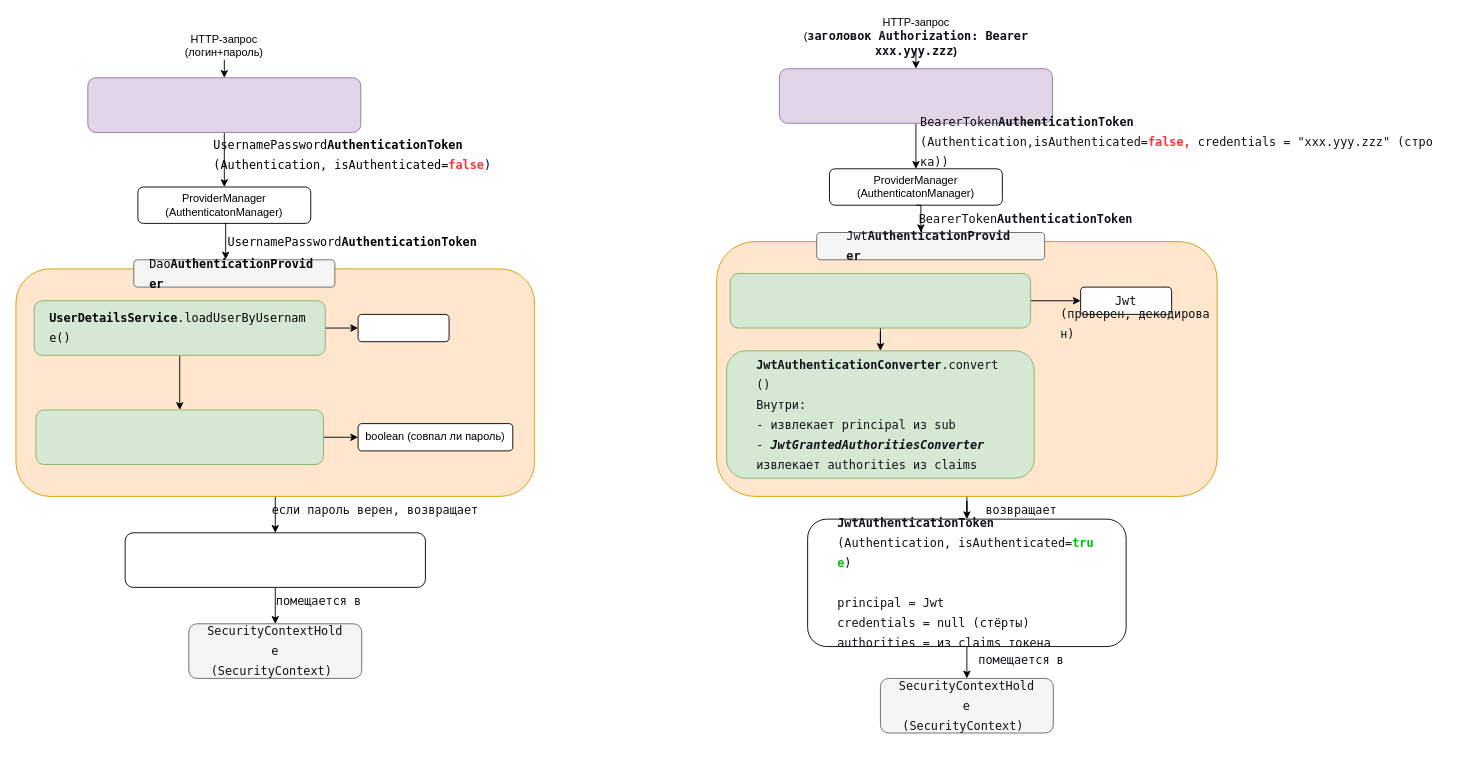
This 1479x765 diagram has some shape labels left out. Here are the shapes that lost their labels. From the top down, the centre of each, then its label:
pixel 224 104: UsernamePassword AuthenticationFilter
pixel 915 95: BearerToken AuthenticationFilter
pixel 880 300: JwtDecoder .decode("xxx.yyy.zzz")
pixel 403 327: UserDetails
pixel 179 437: PasswordEncoder .matches(raw, encoded)
pixel 274 559: UsernamePassword AuthenticationToken (Authentication, isAuthenticated= true )
